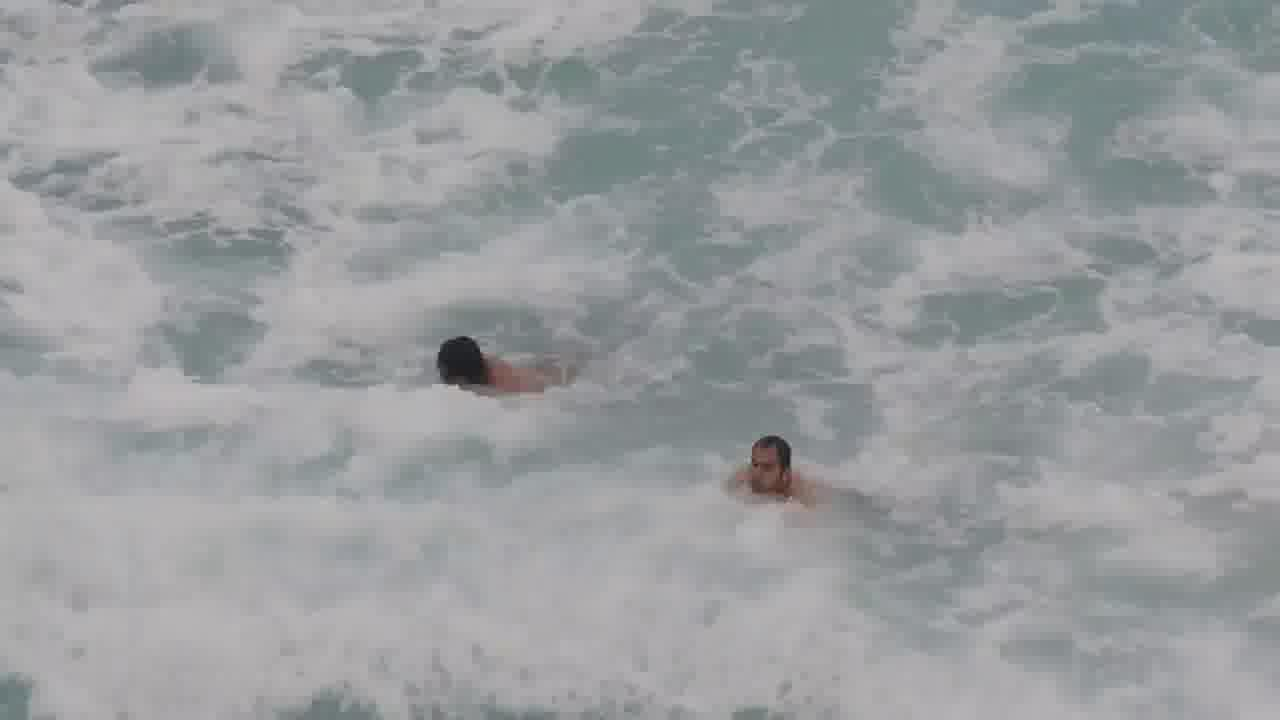swimmer: (417, 328, 574, 410), (719, 420, 818, 511)
